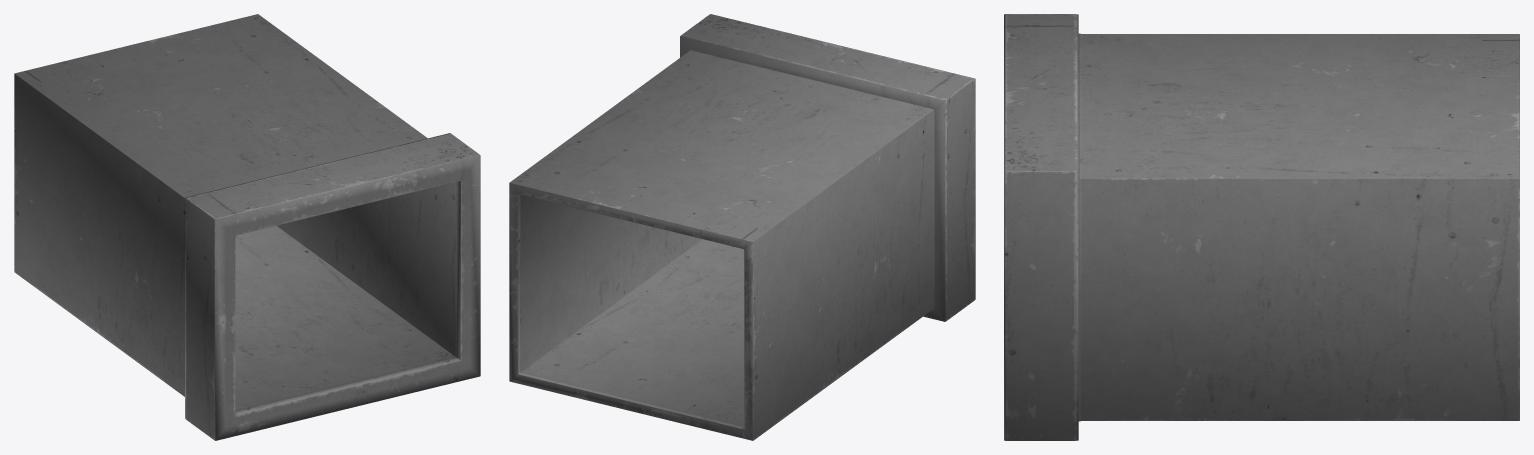
The model's file is airvent_01.gltf.
The picture shows the model from 3 angles, left to right: view 1: azimuth 30°, elevation 25°; view 2: azimuth 150°, elevation 25°; view 3: azimuth 270°, elevation 25°; orthographic projection. The views are drawn at different scales.
Parts seen in each view (by area): view 1: airvent_01; view 2: airvent_01; view 3: airvent_01.
Boxes of the visible parts, x1,y1,x2,y2 form: airvent_01: (14, 14, 480, 440); airvent_01: (509, 14, 975, 440); airvent_01: (1004, 14, 1519, 440).
Bounding box in the file's own units: 0.8461 × 0.6748 × 1.17.
Materials: 1 (1 with a texture image).
